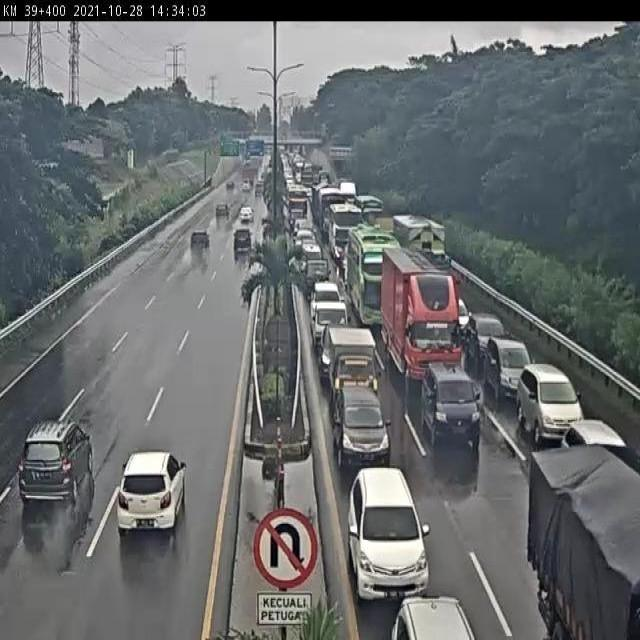big bus: (348, 228, 401, 329), (322, 202, 362, 258), (286, 186, 308, 226)
big truck: (380, 247, 459, 393), (392, 212, 456, 284), (318, 190, 347, 238), (354, 196, 383, 224)
car: (350, 471, 430, 600), (19, 421, 95, 508), (117, 448, 186, 540), (419, 364, 481, 455), (520, 364, 584, 439), (322, 328, 384, 405), (327, 382, 389, 458), (488, 339, 533, 401), (309, 296, 350, 352), (466, 313, 508, 360), (298, 258, 330, 298), (447, 293, 470, 335), (231, 226, 253, 258), (188, 227, 213, 254), (296, 238, 320, 266), (312, 278, 340, 302), (216, 200, 235, 223), (294, 222, 312, 242), (237, 206, 254, 226)
